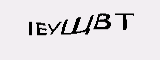І: (26, 21, 34, 37)
В: (93, 11, 114, 31)
Е: (36, 20, 47, 38)
Т: (114, 12, 135, 30)
У: (47, 21, 61, 37)
Щ: (60, 16, 92, 37)
